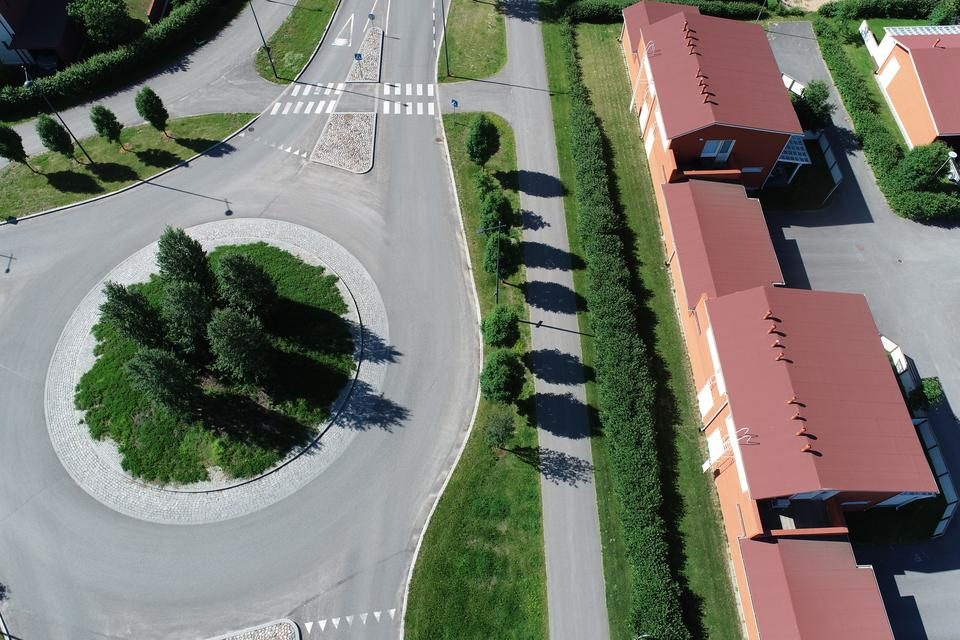intersection: (220, 48, 559, 134)
roundabout: (0, 190, 505, 640)
